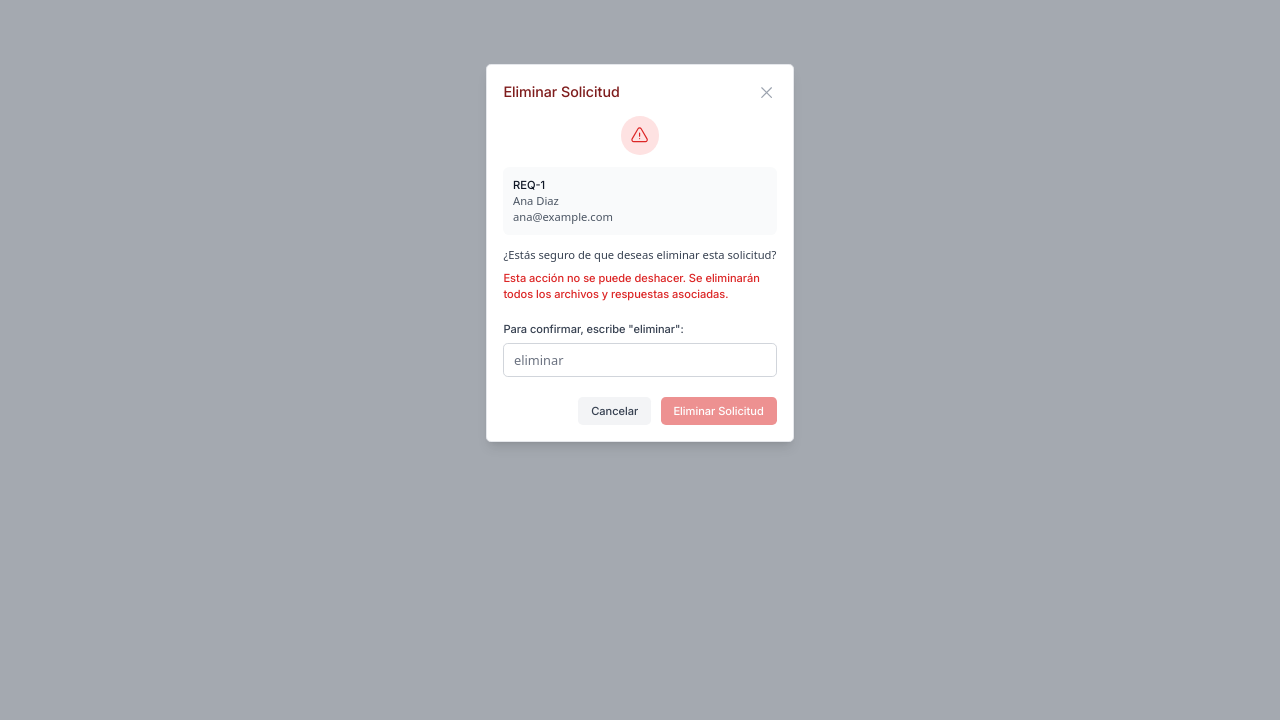
Test: DeleteConfirmModal.vue › shows validation message when confirmation text is invalid
Type "no" into the field with placeholder "eliminar" at (640, 360), box left=503, top=343, right=777, bottom=377
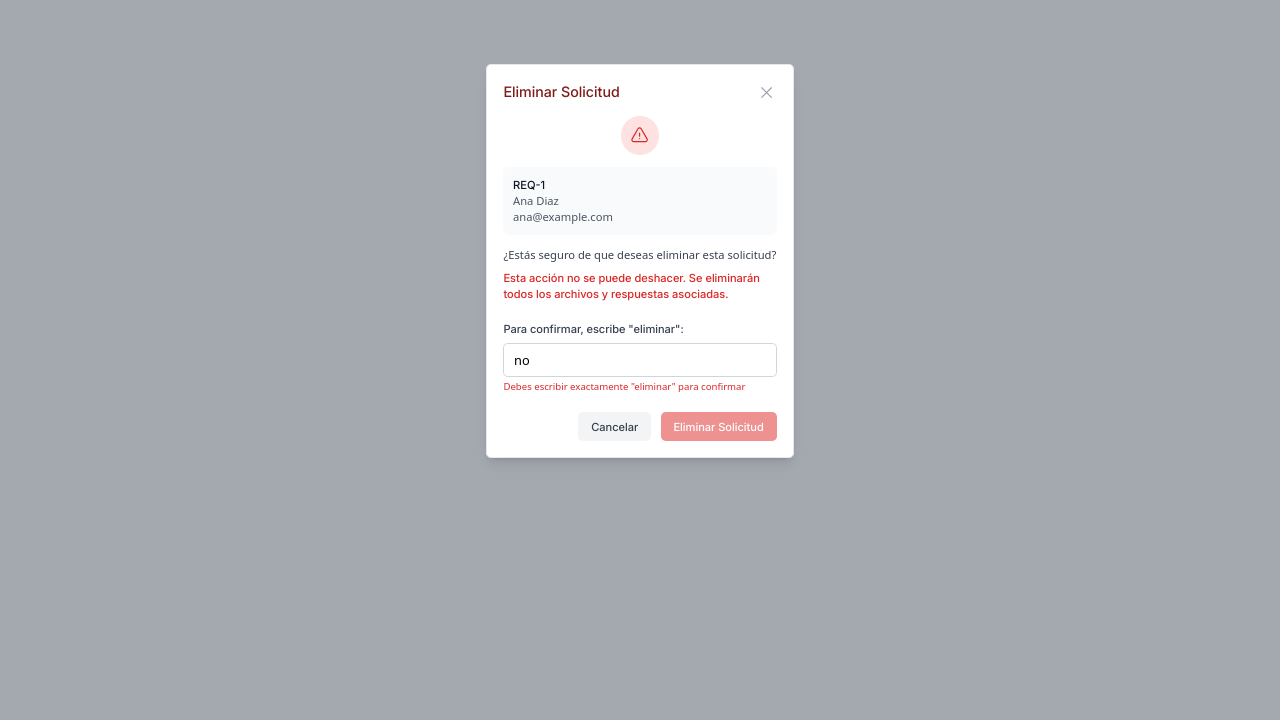
Check: the text "Debes escribir exactamente \"eliminar\"" is shown, box left=503, top=380, right=745, bottom=392
